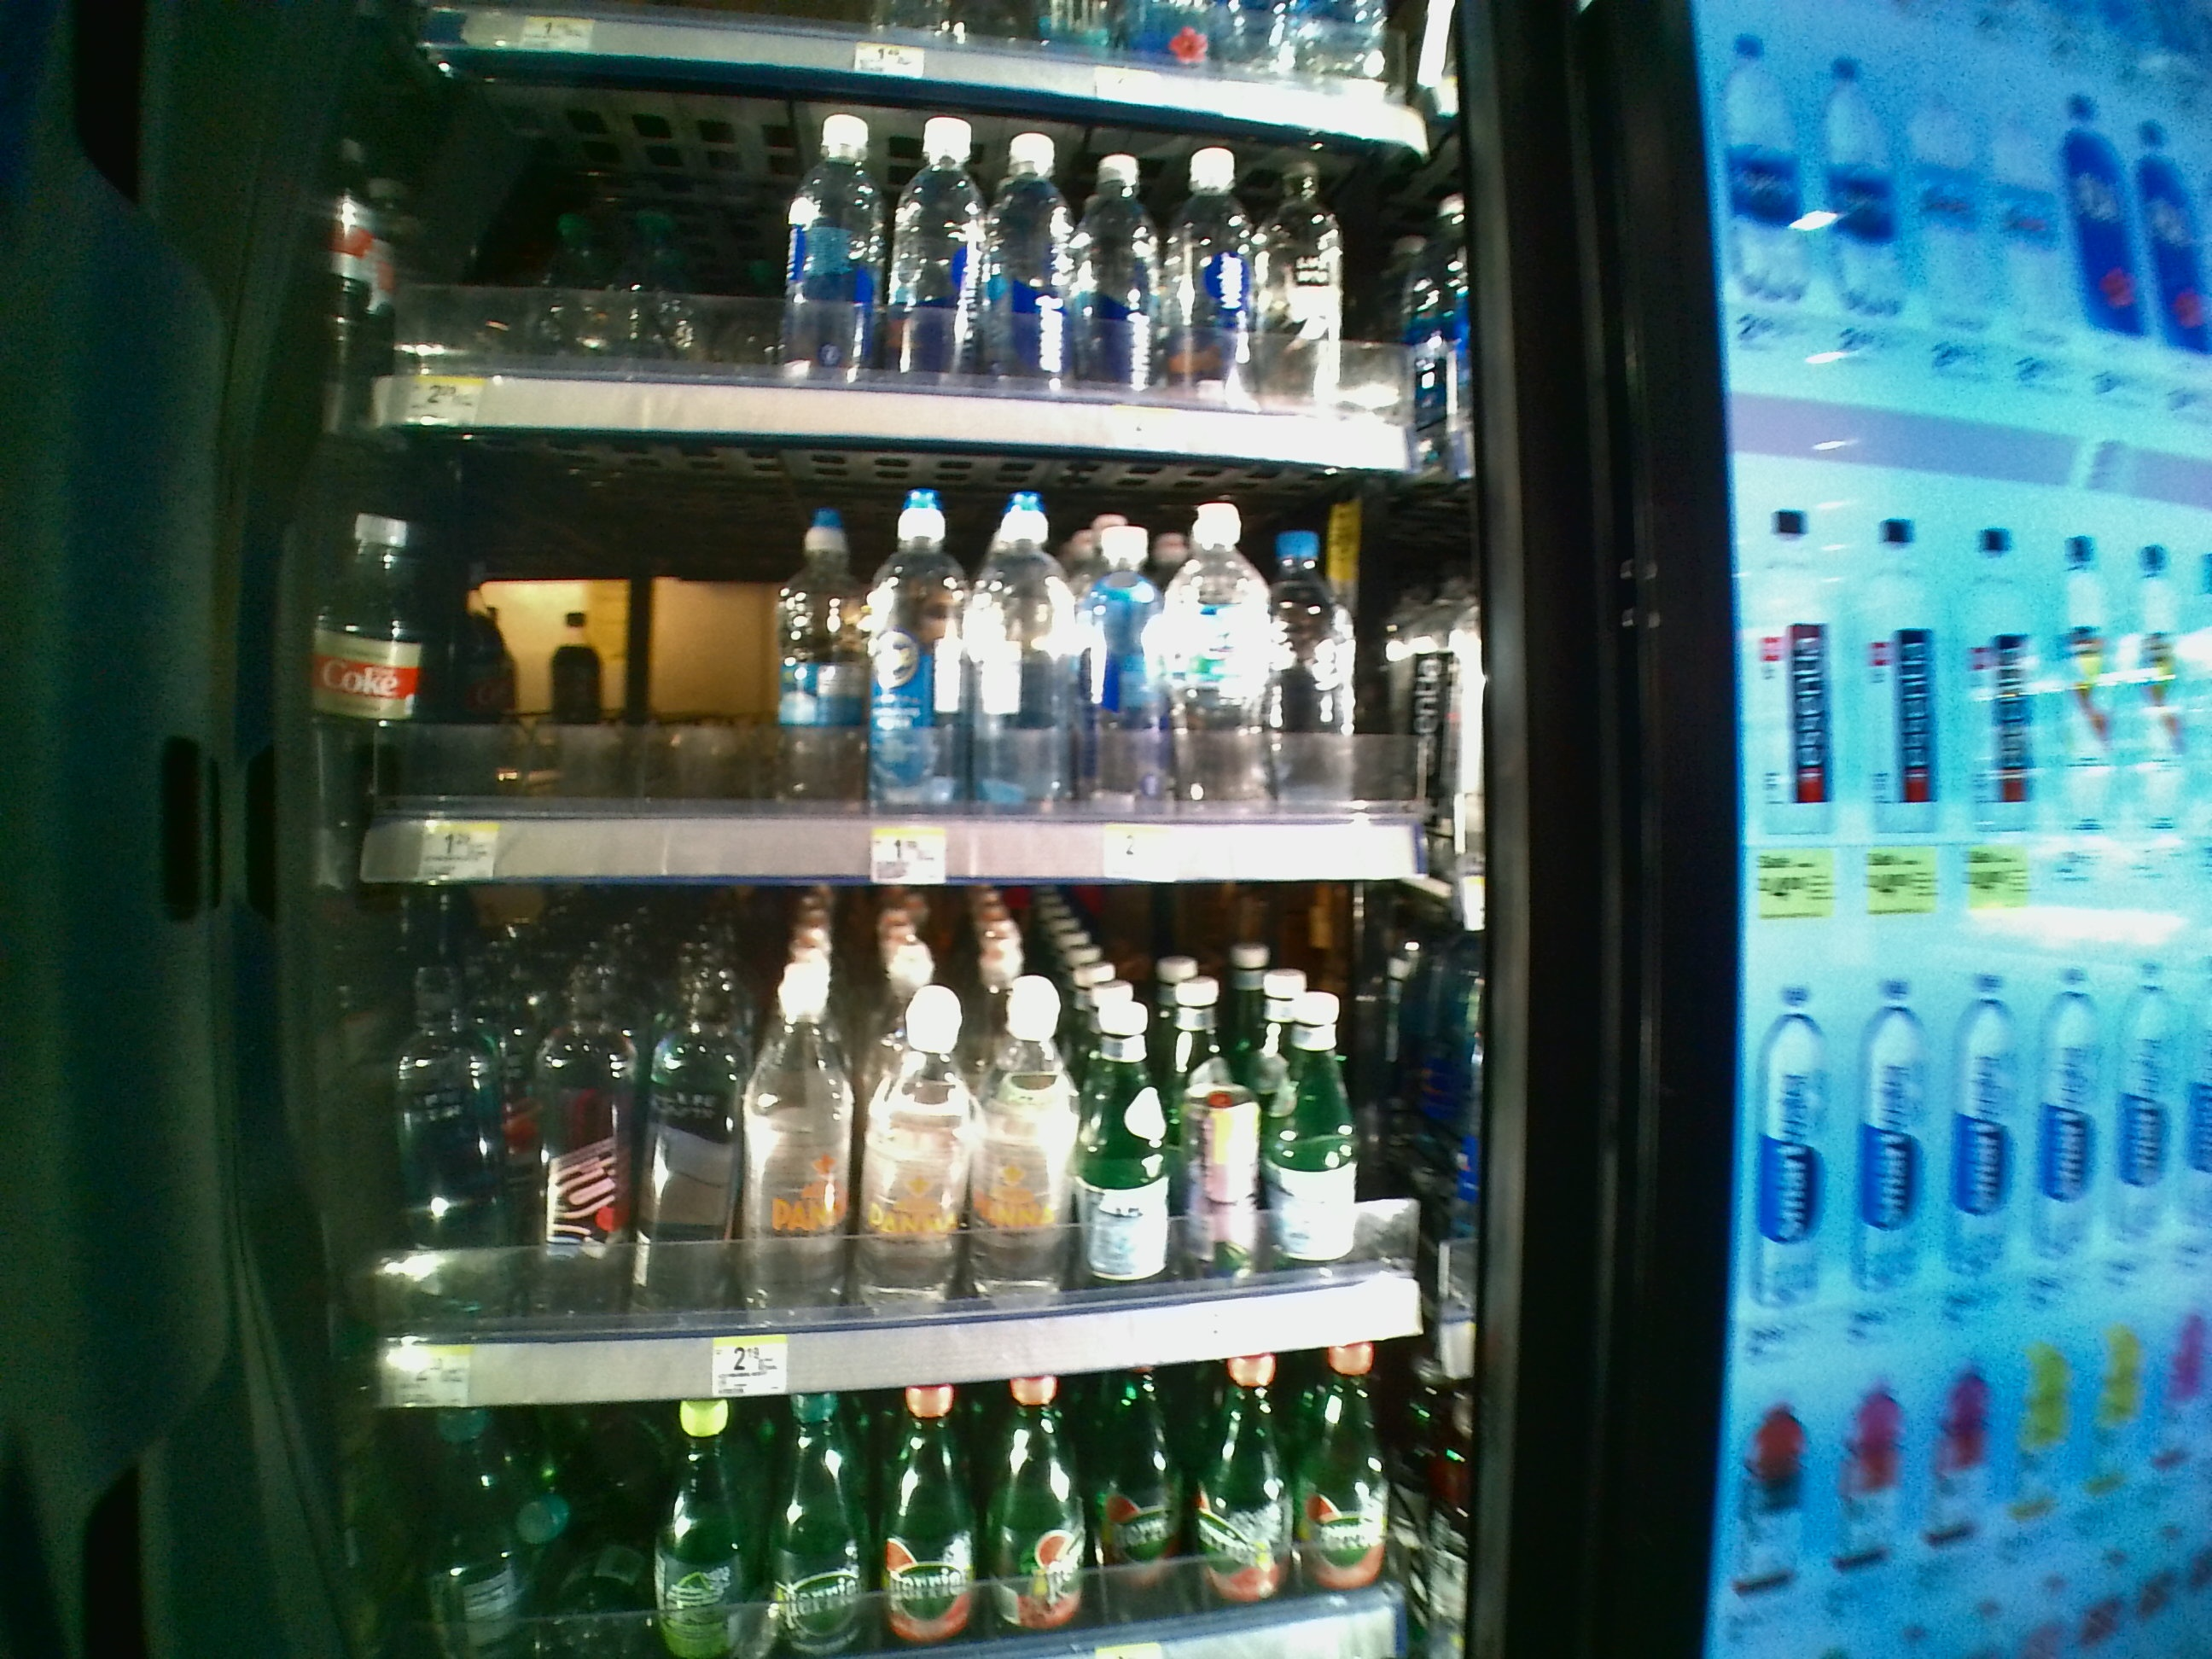Shelf: (307, 887, 1456, 1412), (301, 448, 1440, 882)
